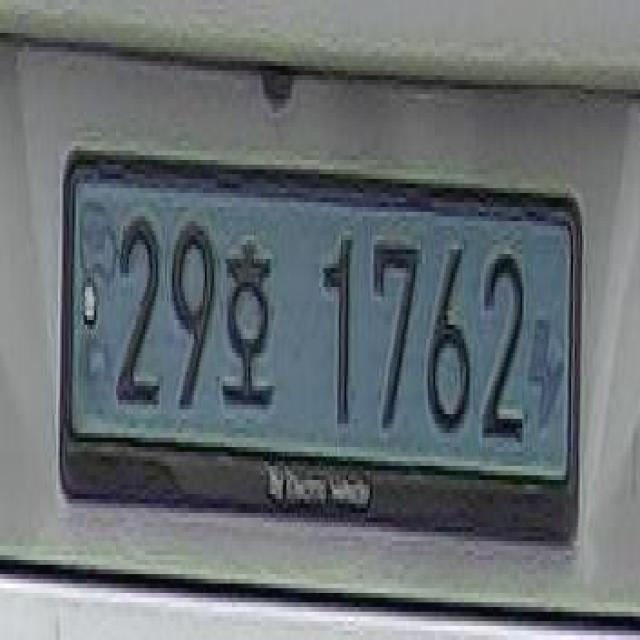EV_plate: (56, 135, 598, 573)
